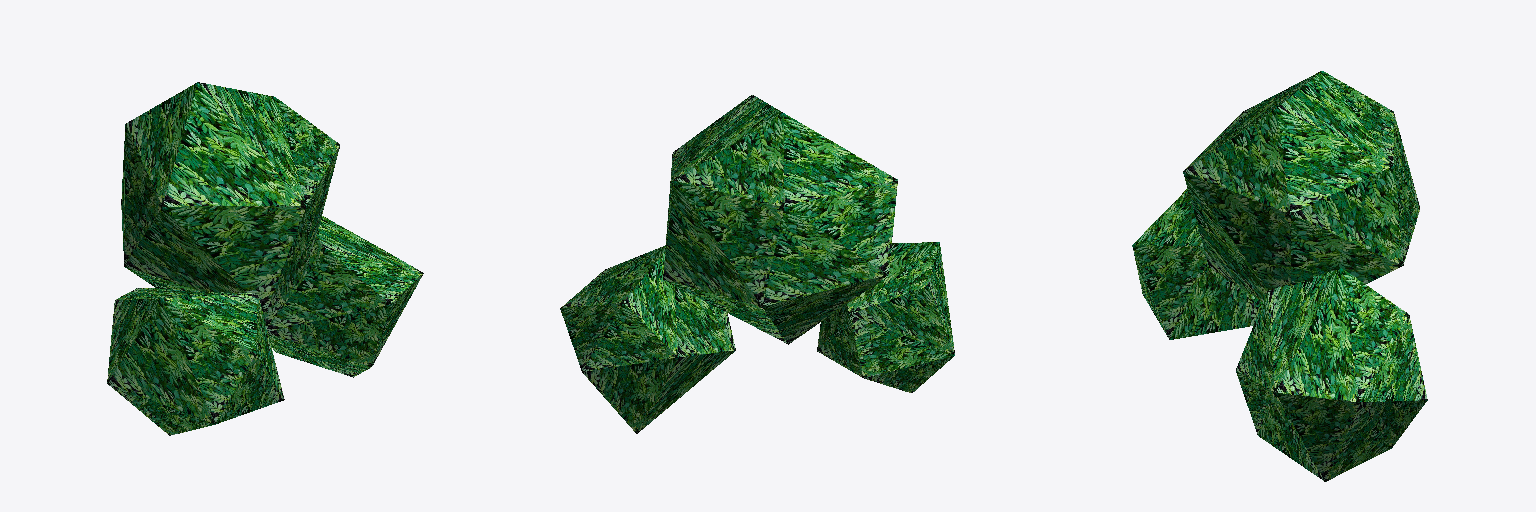
3 renders of one model, left to right at view 1: azimuth 30°, elevation 25°; view 2: azimuth 150°, elevation 25°; view 3: azimuth 270°, elevation 25°, orthographic.
Parts seen in each view (by area): view 1: tree03_Cylinder.000; view 2: tree03_Cylinder.000; view 3: tree03_Cylinder.000.
Boxes of the visible parts, x1,y1,x2,y2 form: tree03_Cylinder.000: [107, 82, 423, 435]; tree03_Cylinder.000: [560, 95, 954, 433]; tree03_Cylinder.000: [1132, 71, 1427, 481].
Size of the model in its own units: 2.12 by 2.02 by 1.61.
1 materials, 1 textured.